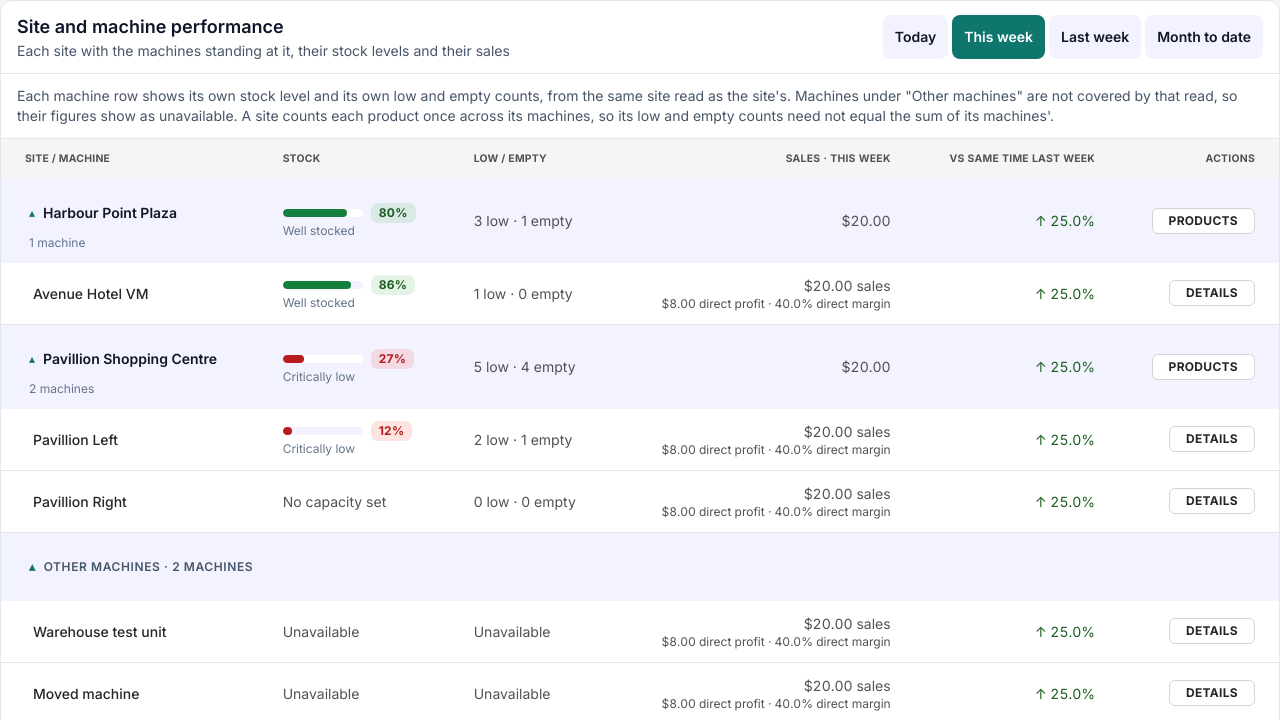
it: Site and machine performance shared period controls (issue #987) › keeps "vs same time last week" to the week comparison the API actually publishes
Expected: the row with test id "site-row-1" shows "↑ 25.0%", [1035, 212, 1095, 229]
Click the button "Today". click: point(916, 37)
box: [883, 15, 948, 59]
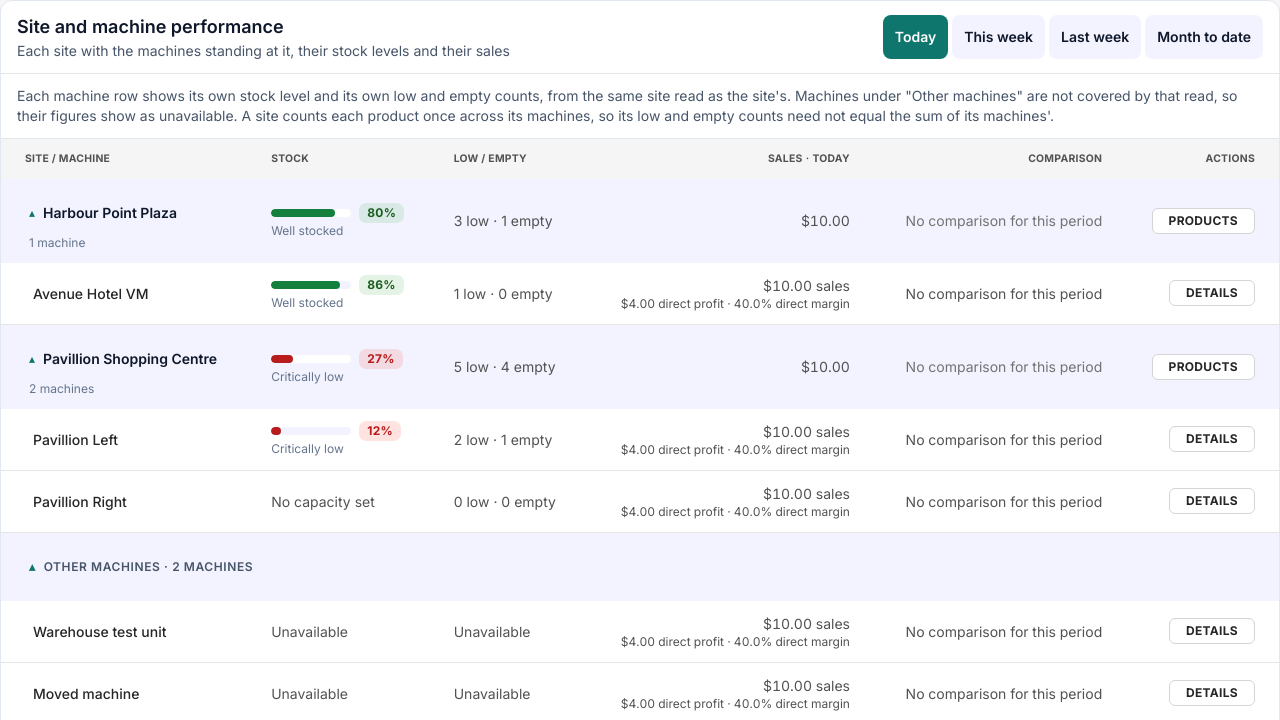
Expected: the row with test id "site-row-1" shows "No comparison for this period", [906, 212, 1102, 229]
